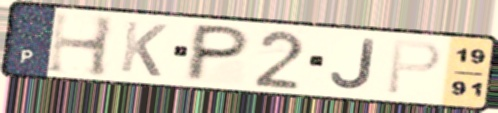2: (254, 27, 309, 92)
H: (44, 9, 118, 80)
J: (328, 37, 378, 92)
K: (116, 18, 170, 79)
P: (180, 21, 254, 83), (383, 38, 444, 97)
